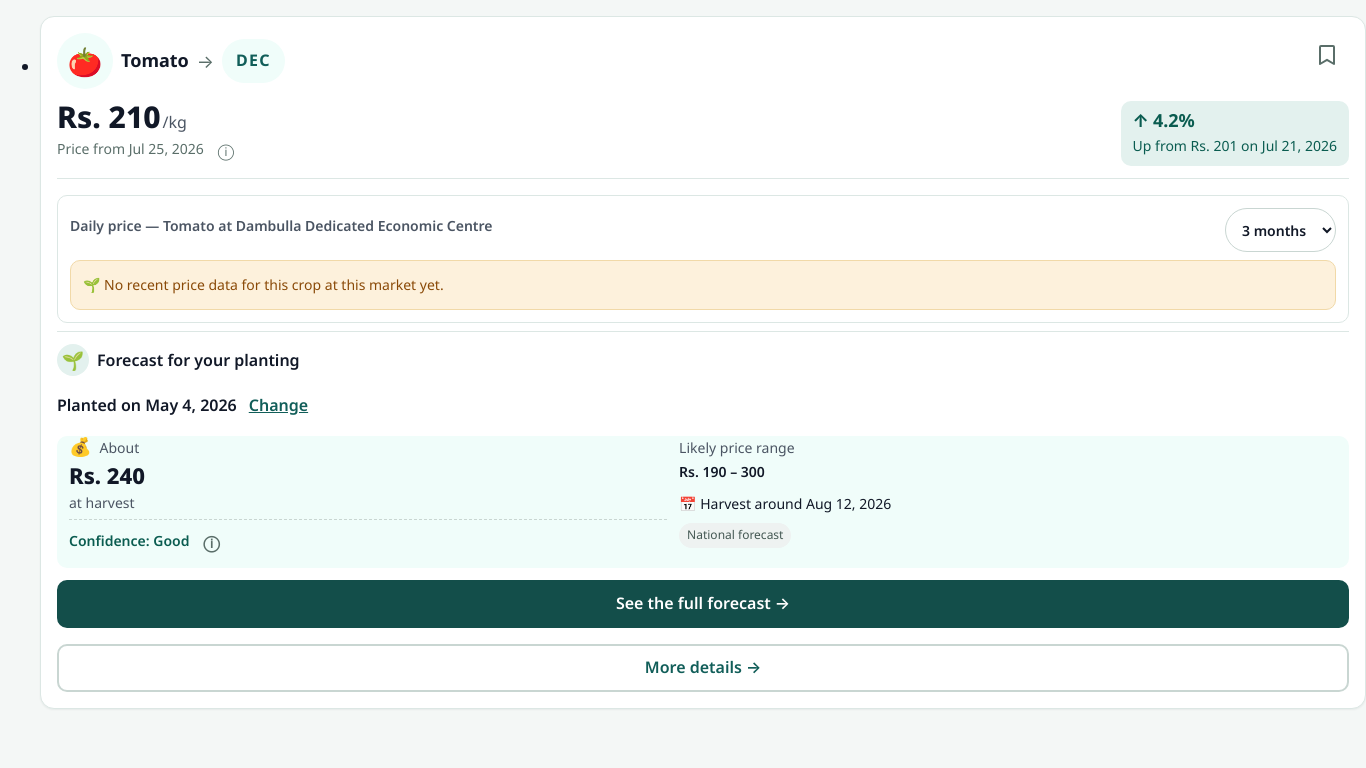
the popup deals its sections into two columns › wraps the body in exactly one cols element holding exactly two columns
Click the button with aria-label "More details for Tomato" at (703, 668), box top-left (57, 644), bottom-right (1349, 692)
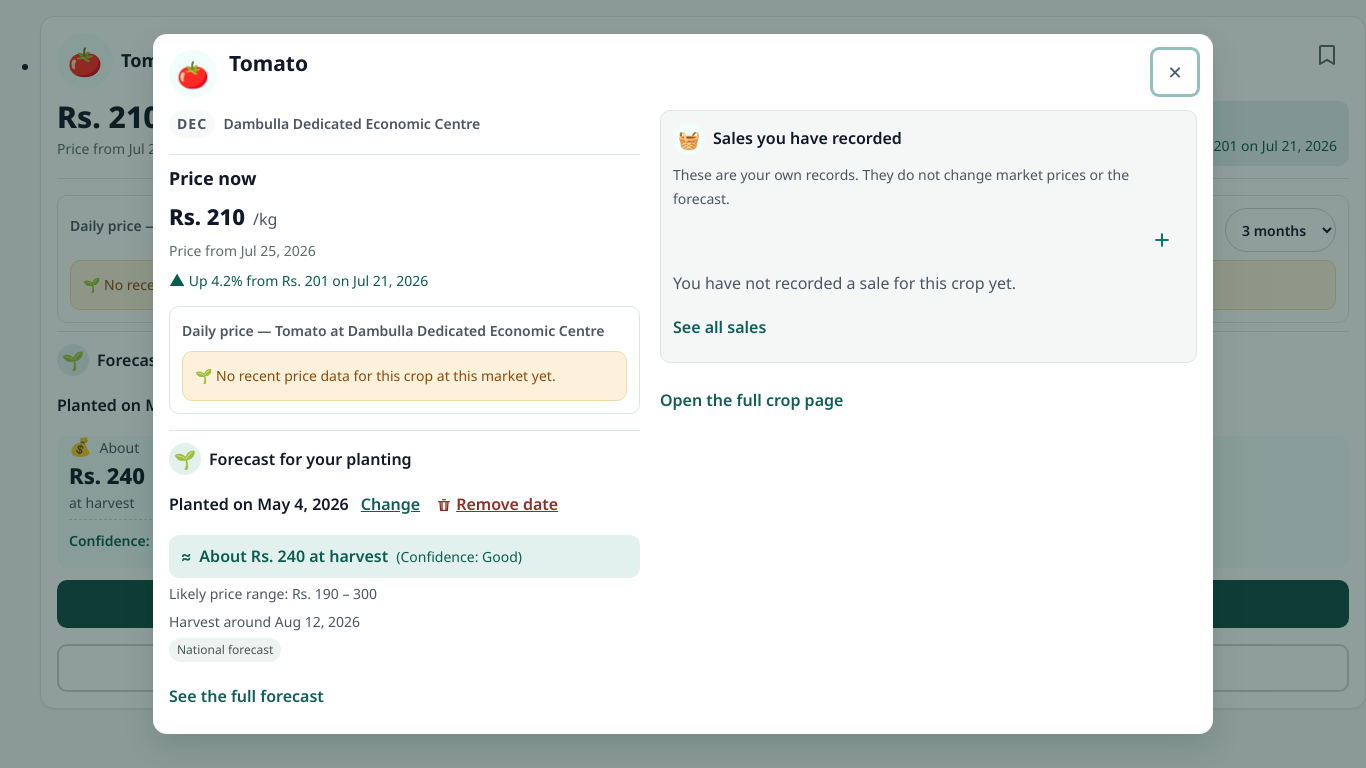
Now the element "Sales you have recorded" is shown, box top-left (660, 110), bottom-right (1197, 363)
Now the element that starts with "DEC" is shown, box top-left (169, 110), bottom-right (1197, 718)
